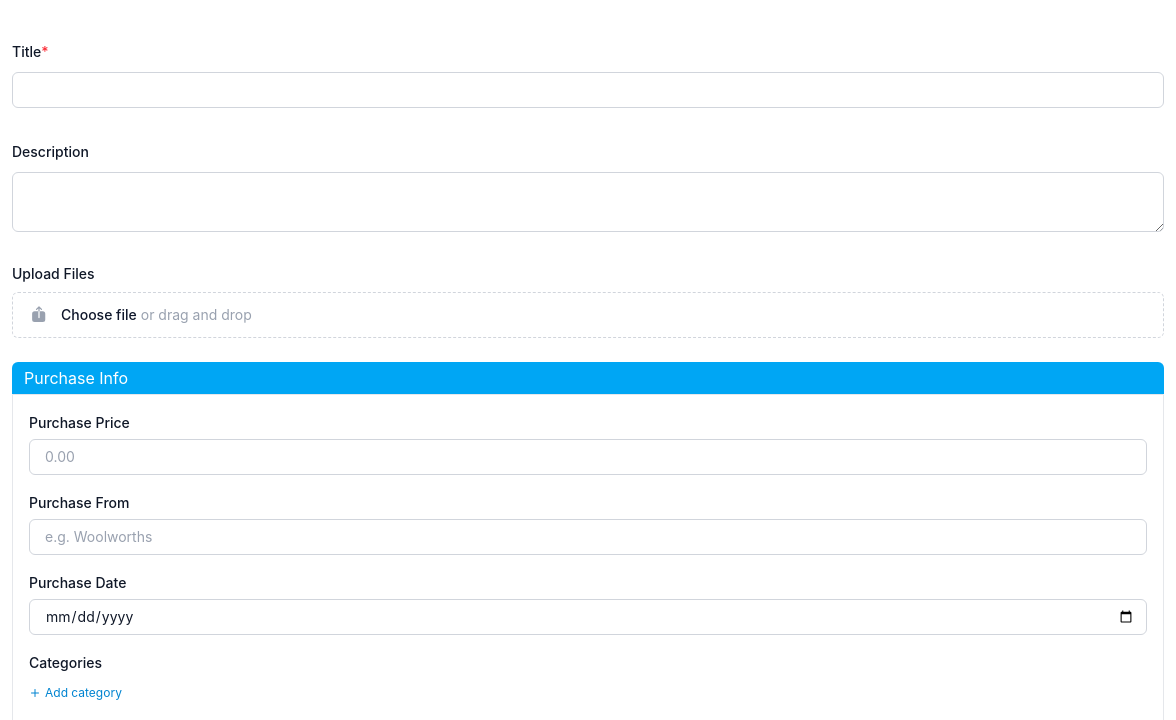
Test: UploadFile › clears form when clear button is clicked
Type "Test Title" into the field labelled "Title*".
click(594, 90); type("Test Title")  # box [24, 72, 1164, 108]
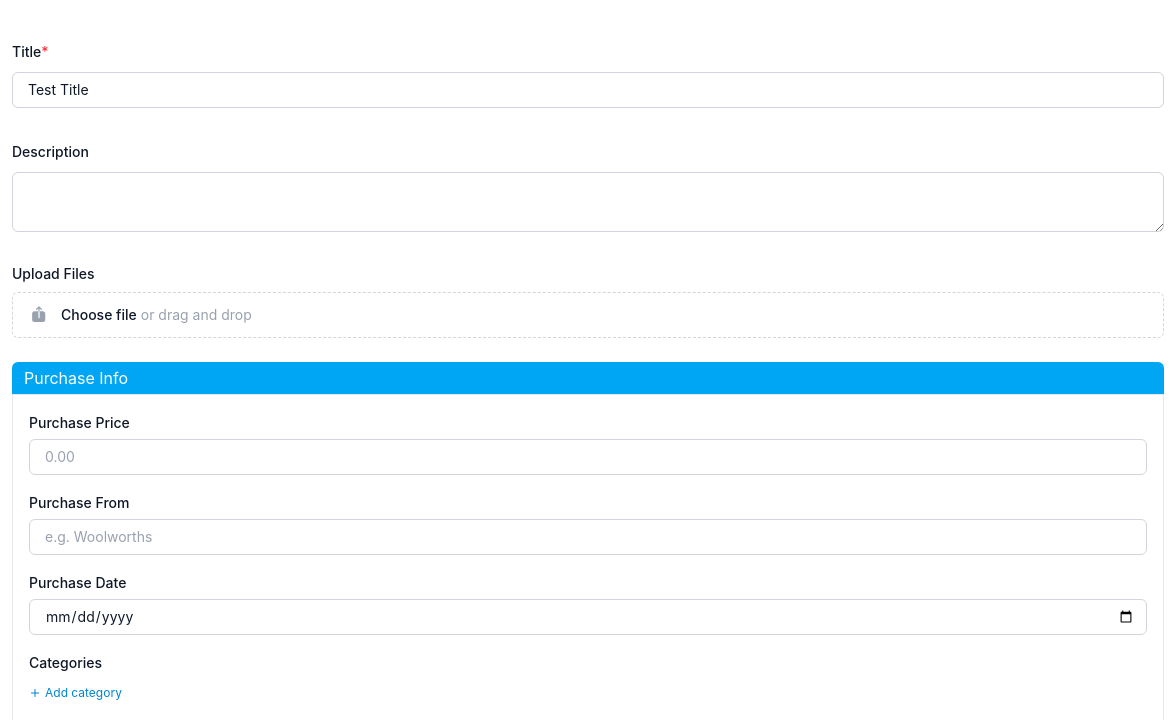
Type "Test Description" into the text box labelled "Description".
click(588, 202); type("Test Description")  # box [12, 172, 1164, 232]
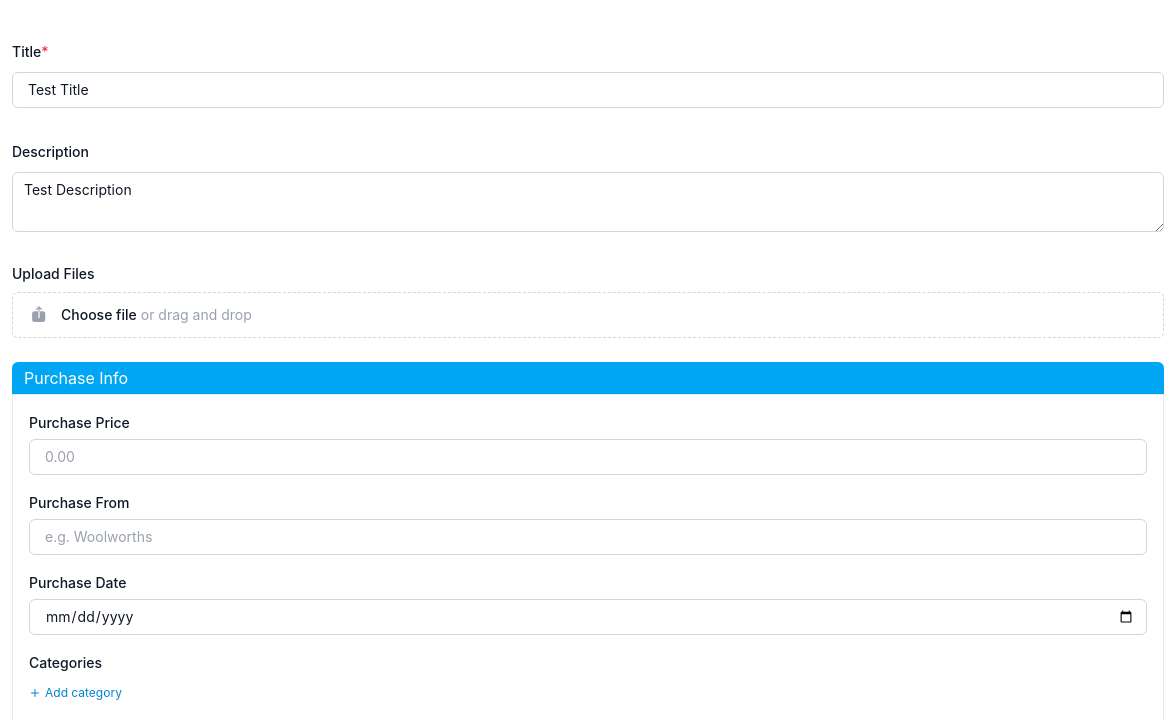
Type "Woolworths" into the field labelled "Purchase From".
click(594, 537); type("Woolworths")  # box [41, 519, 1147, 555]
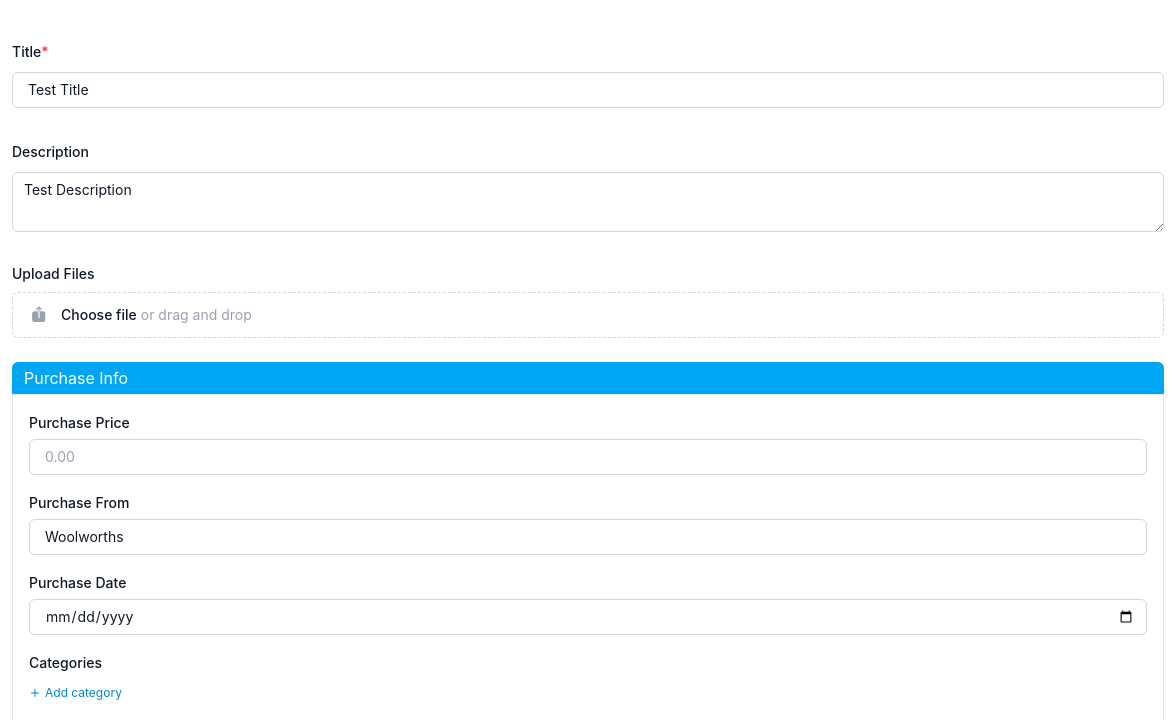
Type "12.50" into the number field labelled "Purchase Price".
click(594, 457); type("12.50")  # box [41, 439, 1147, 475]
(page scrolled)
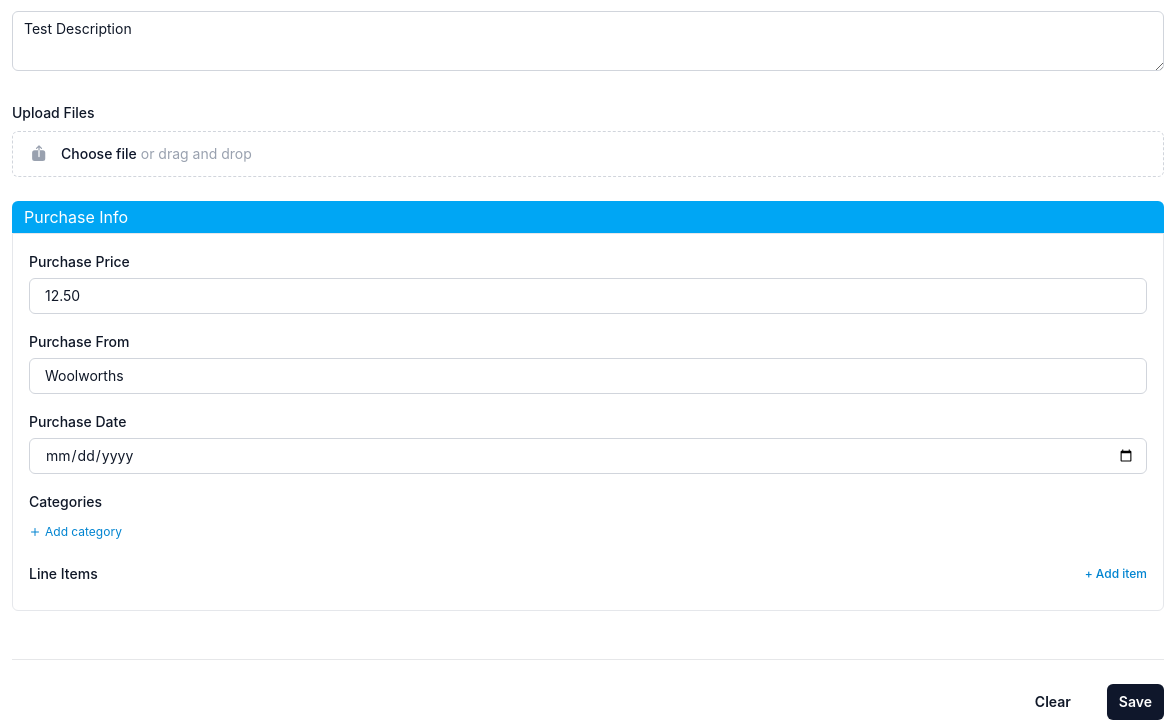
Click the button "Clear".
click(1053, 702)  # box [1023, 684, 1083, 719]
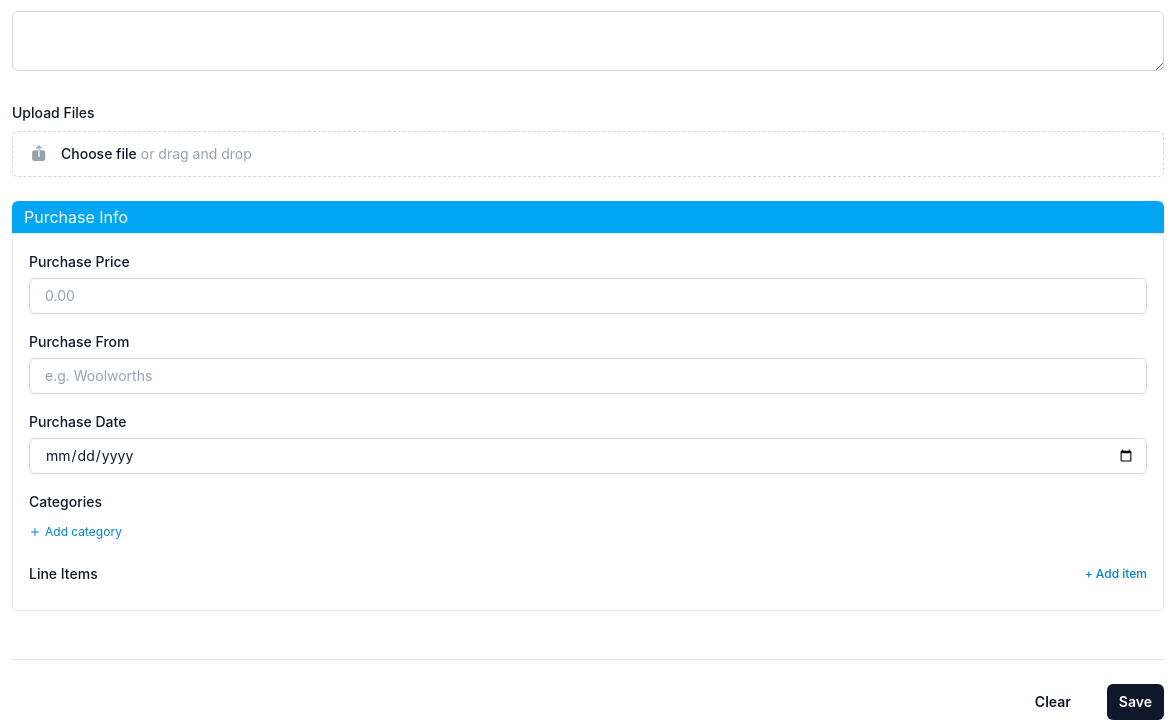
Expected: the text box labelled "Description" is empty, [12, 11, 1164, 71]
Expected: the field labelled "Purchase From" is empty, [41, 358, 1147, 394]
Expected: the number field labelled "Purchase Price" is not empty, [41, 278, 1147, 314]
